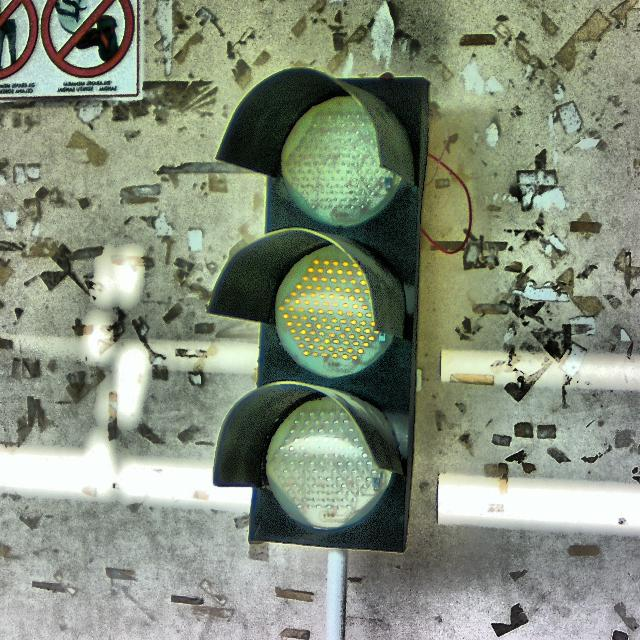yellow: (211, 73, 431, 546)
